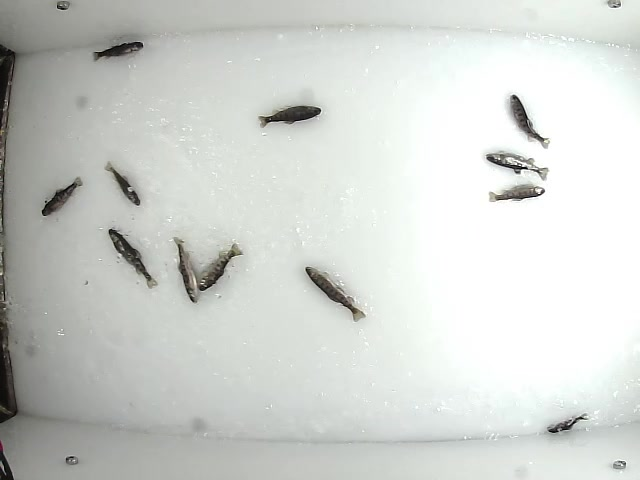fish: (302, 265, 367, 323), (106, 227, 158, 291), (195, 240, 244, 294), (509, 91, 553, 149), (482, 150, 550, 183), (170, 236, 201, 305), (40, 174, 84, 217), (102, 160, 141, 207), (257, 104, 323, 130), (486, 182, 547, 204), (89, 41, 147, 64), (544, 410, 589, 435)
